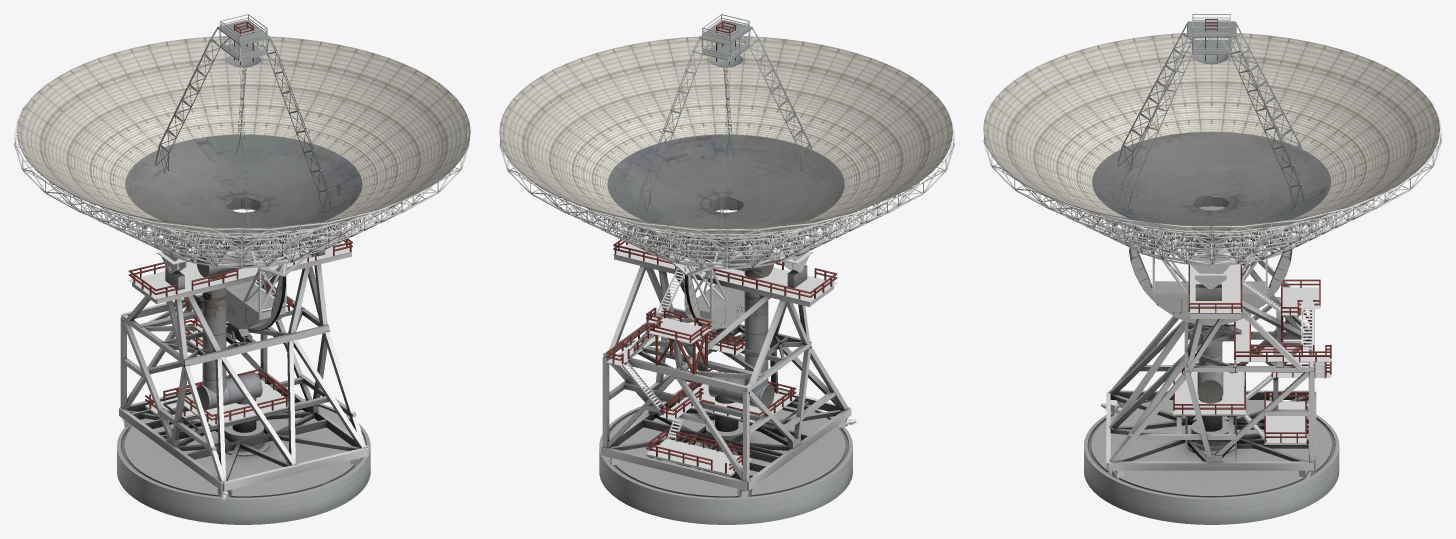
The picture shows the model from 3 angles, left to right: view 1: azimuth 30°, elevation 25°; view 2: azimuth 150°, elevation 25°; view 3: azimuth 270°, elevation 25°; orthographic projection.
Visible parts, largest first — view 1: dish, New Base, dish_center, base, truss_dish, quad, EW Symmetric.001; view 2: dish, New Base, dish_center, base, truss_dish, quad, EW Symmetric.001; view 3: dish, New Base, dish_center, base, truss_dish, quad, EW Symmetric.001.
Part boxes in pixels (left/top/right/bottom): dish: left=17, top=36, right=470, bottom=235; New Base: left=119, top=227, right=368, bottom=502; dish_center: left=125, top=134, right=362, bottom=227; base: left=117, top=396, right=370, bottom=524; truss_dish: left=14, top=83, right=469, bottom=268; quad: left=155, top=14, right=332, bottom=227; EW Symmetric.001: left=153, top=209, right=336, bottom=330; dish: left=499, top=36, right=952, bottom=235; New Base: left=601, top=227, right=856, bottom=497; dish_center: left=607, top=134, right=844, bottom=227; base: left=599, top=400, right=852, bottom=524; truss_dish: left=499, top=41, right=954, bottom=269; quad: left=637, top=14, right=814, bottom=227; EW Symmetric.001: left=632, top=227, right=815, bottom=330; dish: left=983, top=33, right=1439, bottom=233; New Base: left=1101, top=237, right=1331, bottom=479; dish_center: left=1092, top=132, right=1330, bottom=225; base: left=1084, top=400, right=1339, bottom=524; truss_dish: left=983, top=60, right=1441, bottom=265; quad: left=1117, top=14, right=1305, bottom=209; EW Symmetric.001: left=1113, top=206, right=1309, bottom=325.
Bounding box in the file's own units: 34.02 × 36.79 × 33.97.
Materials: 7 (5 with a texture image).
